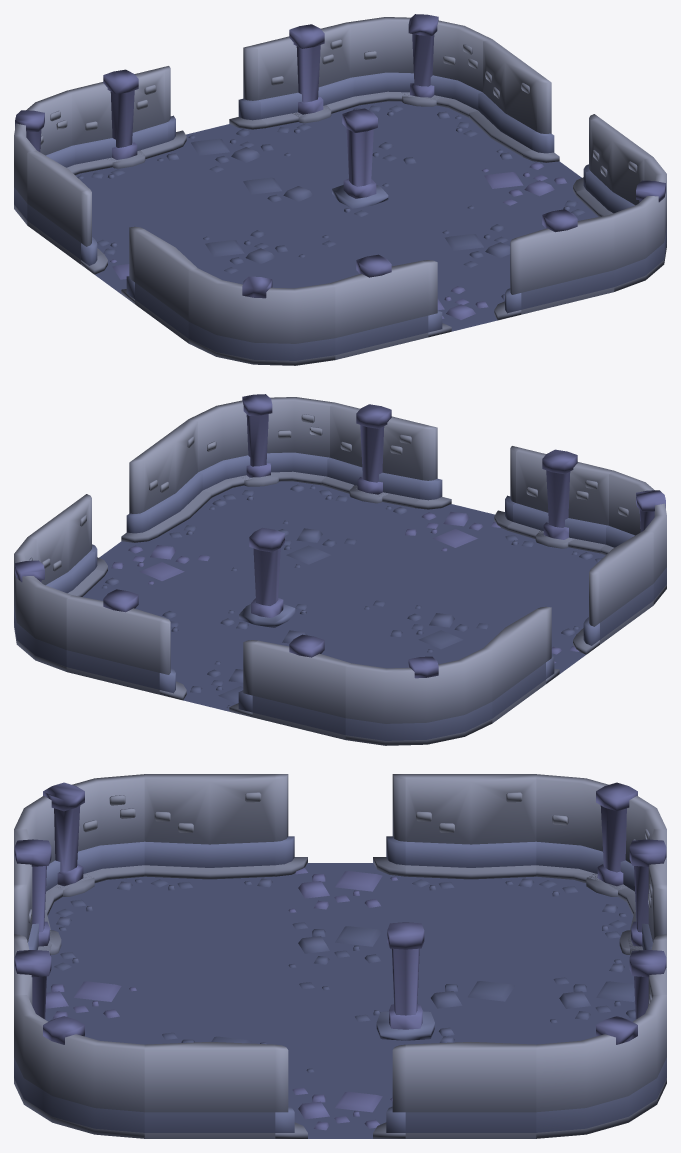
File: room-large_fixed.glb
The picture shows the model from 3 angles, top to bottom: view 1: azimuth 30°, elevation 25°; view 2: azimuth 150°, elevation 25°; view 3: azimuth 270°, elevation 25°; orthographic projection. The views are drawn at different scales.
Parts seen in each view (by area): view 1: room-large; view 2: room-large; view 3: room-large.
Part boxes in pixels (bbox=[...]): room-large: bbox=[14, 14, 666, 365]; room-large: bbox=[14, 394, 666, 745]; room-large: bbox=[14, 774, 666, 1138].
Size of the model in its own units: 20 by 3.33 by 20.
Materials: 1 (1 with a texture image).
